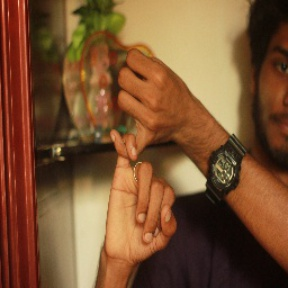S: (100, 51, 187, 256)
